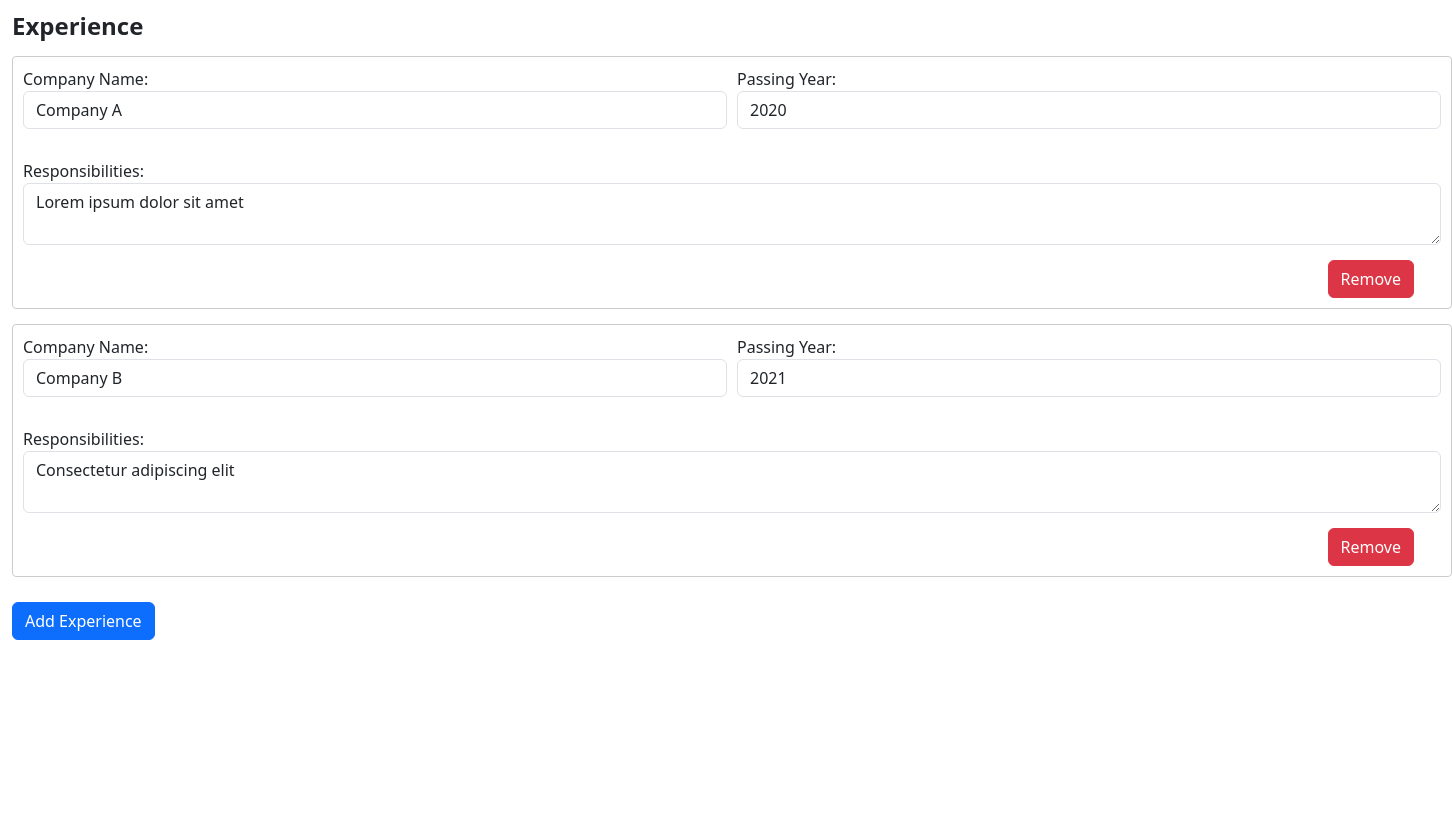
Test: Experience › removes an experience entry when remove button is clicked
This screenshot has width=1452, height=822.
Simulate clicking on the remove button of the first experience entry
Click the 1st button "Remove" at (1371, 279), box 1328,260 -> 1414,298
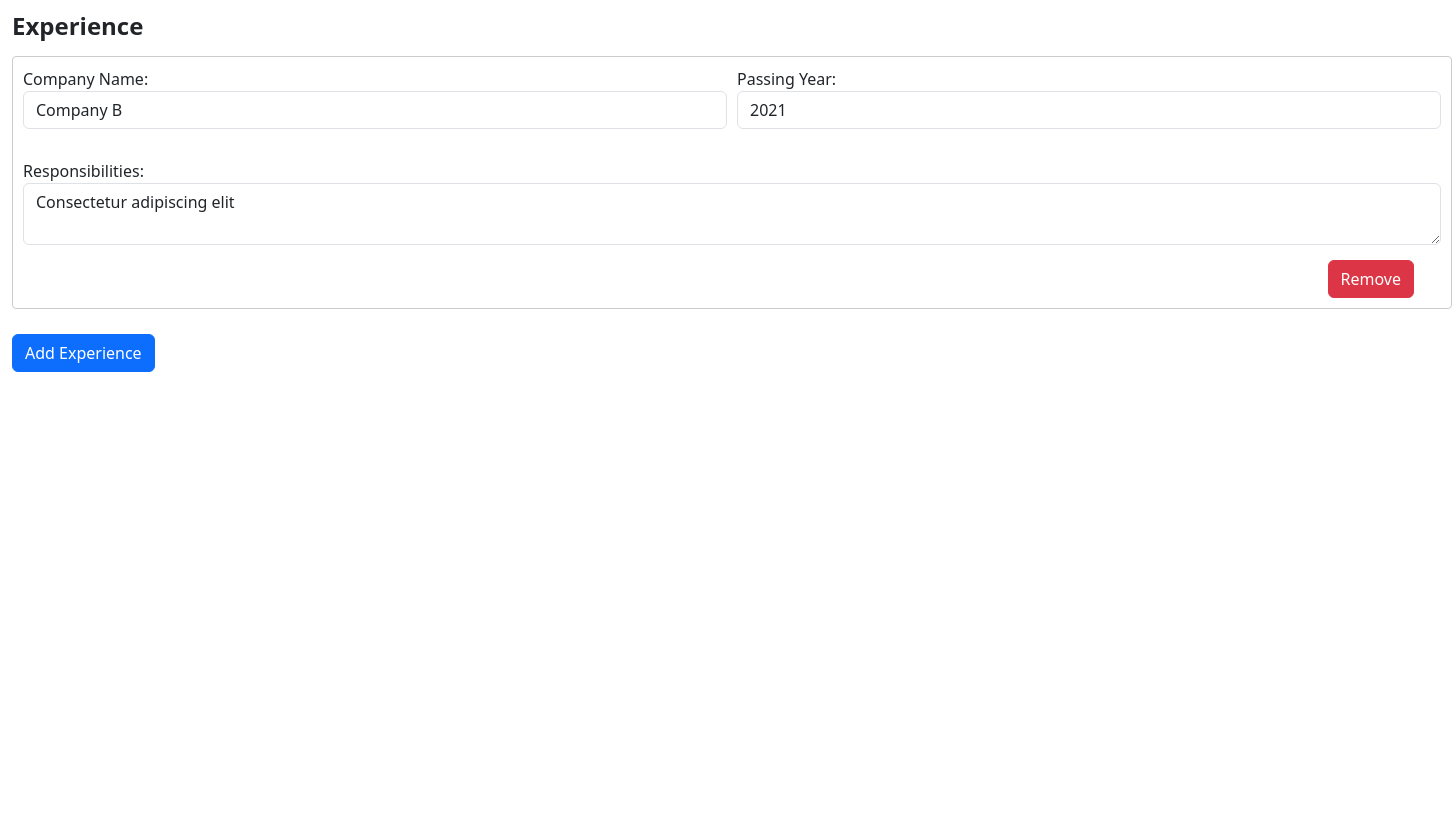
Now the field labelled "Company Name:" holds "Company B", box 23,91 -> 727,129
Now the field labelled "Passing Year:" holds "2021", box 737,91 -> 1441,129
Now the text box labelled "Responsibilities:" holds "Consectetur adipiscing elit", box 23,183 -> 1441,245
